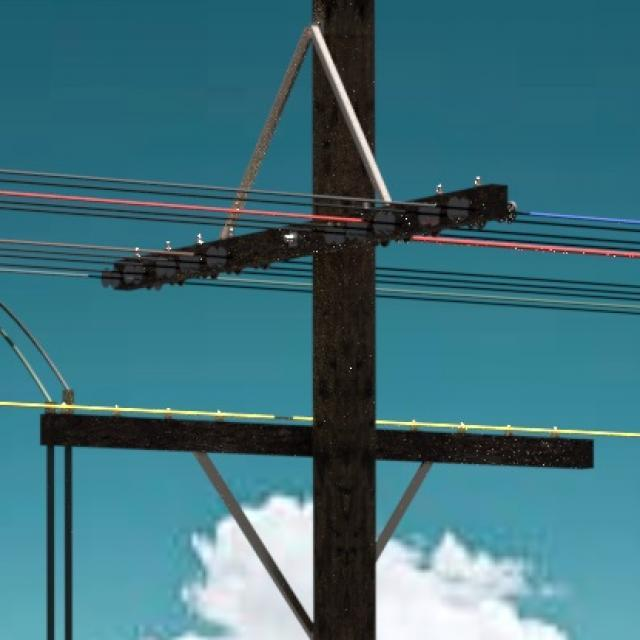crossarm: (100, 184, 518, 291), (40, 413, 595, 467), (200, 452, 316, 640), (224, 30, 315, 238), (310, 26, 392, 204), (376, 464, 435, 556)
pole: (310, 0, 389, 640)
